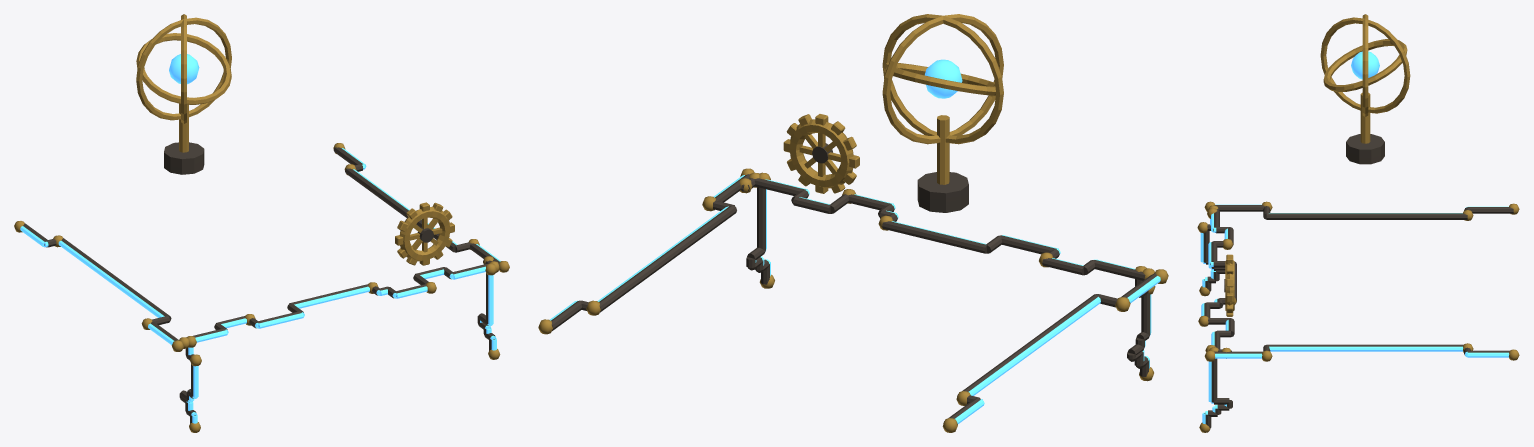
Rendered from caserne-dress.glb.
3 renders of one model, left to right at view 1: azimuth 30°, elevation 25°; view 2: azimuth 150°, elevation 25°; view 3: azimuth 270°, elevation 25°, orthographic. The views are drawn at different scales.
Visible parts, largest first — view 1: caserne-dress; view 2: caserne-dress; view 3: caserne-dress.
Boxes of the visible parts, left/top/right/bottom form: caserne-dress: left=14, top=14, right=509, bottom=432; caserne-dress: left=538, top=14, right=1168, bottom=432; caserne-dress: left=1197, top=14, right=1519, bottom=432.
Size of the model in its own units: 2.7 by 2.55 by 2.39.
